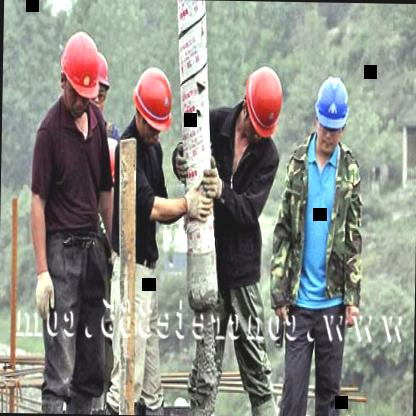helmet: (54, 22, 100, 127), (128, 62, 176, 145), (242, 63, 289, 141), (312, 72, 350, 158), (80, 54, 110, 120)
